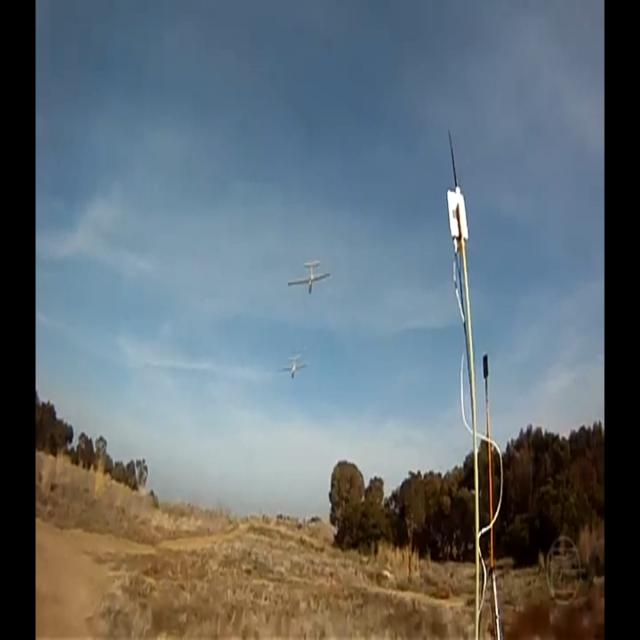iha: (288, 260, 330, 296), (281, 354, 309, 379)
